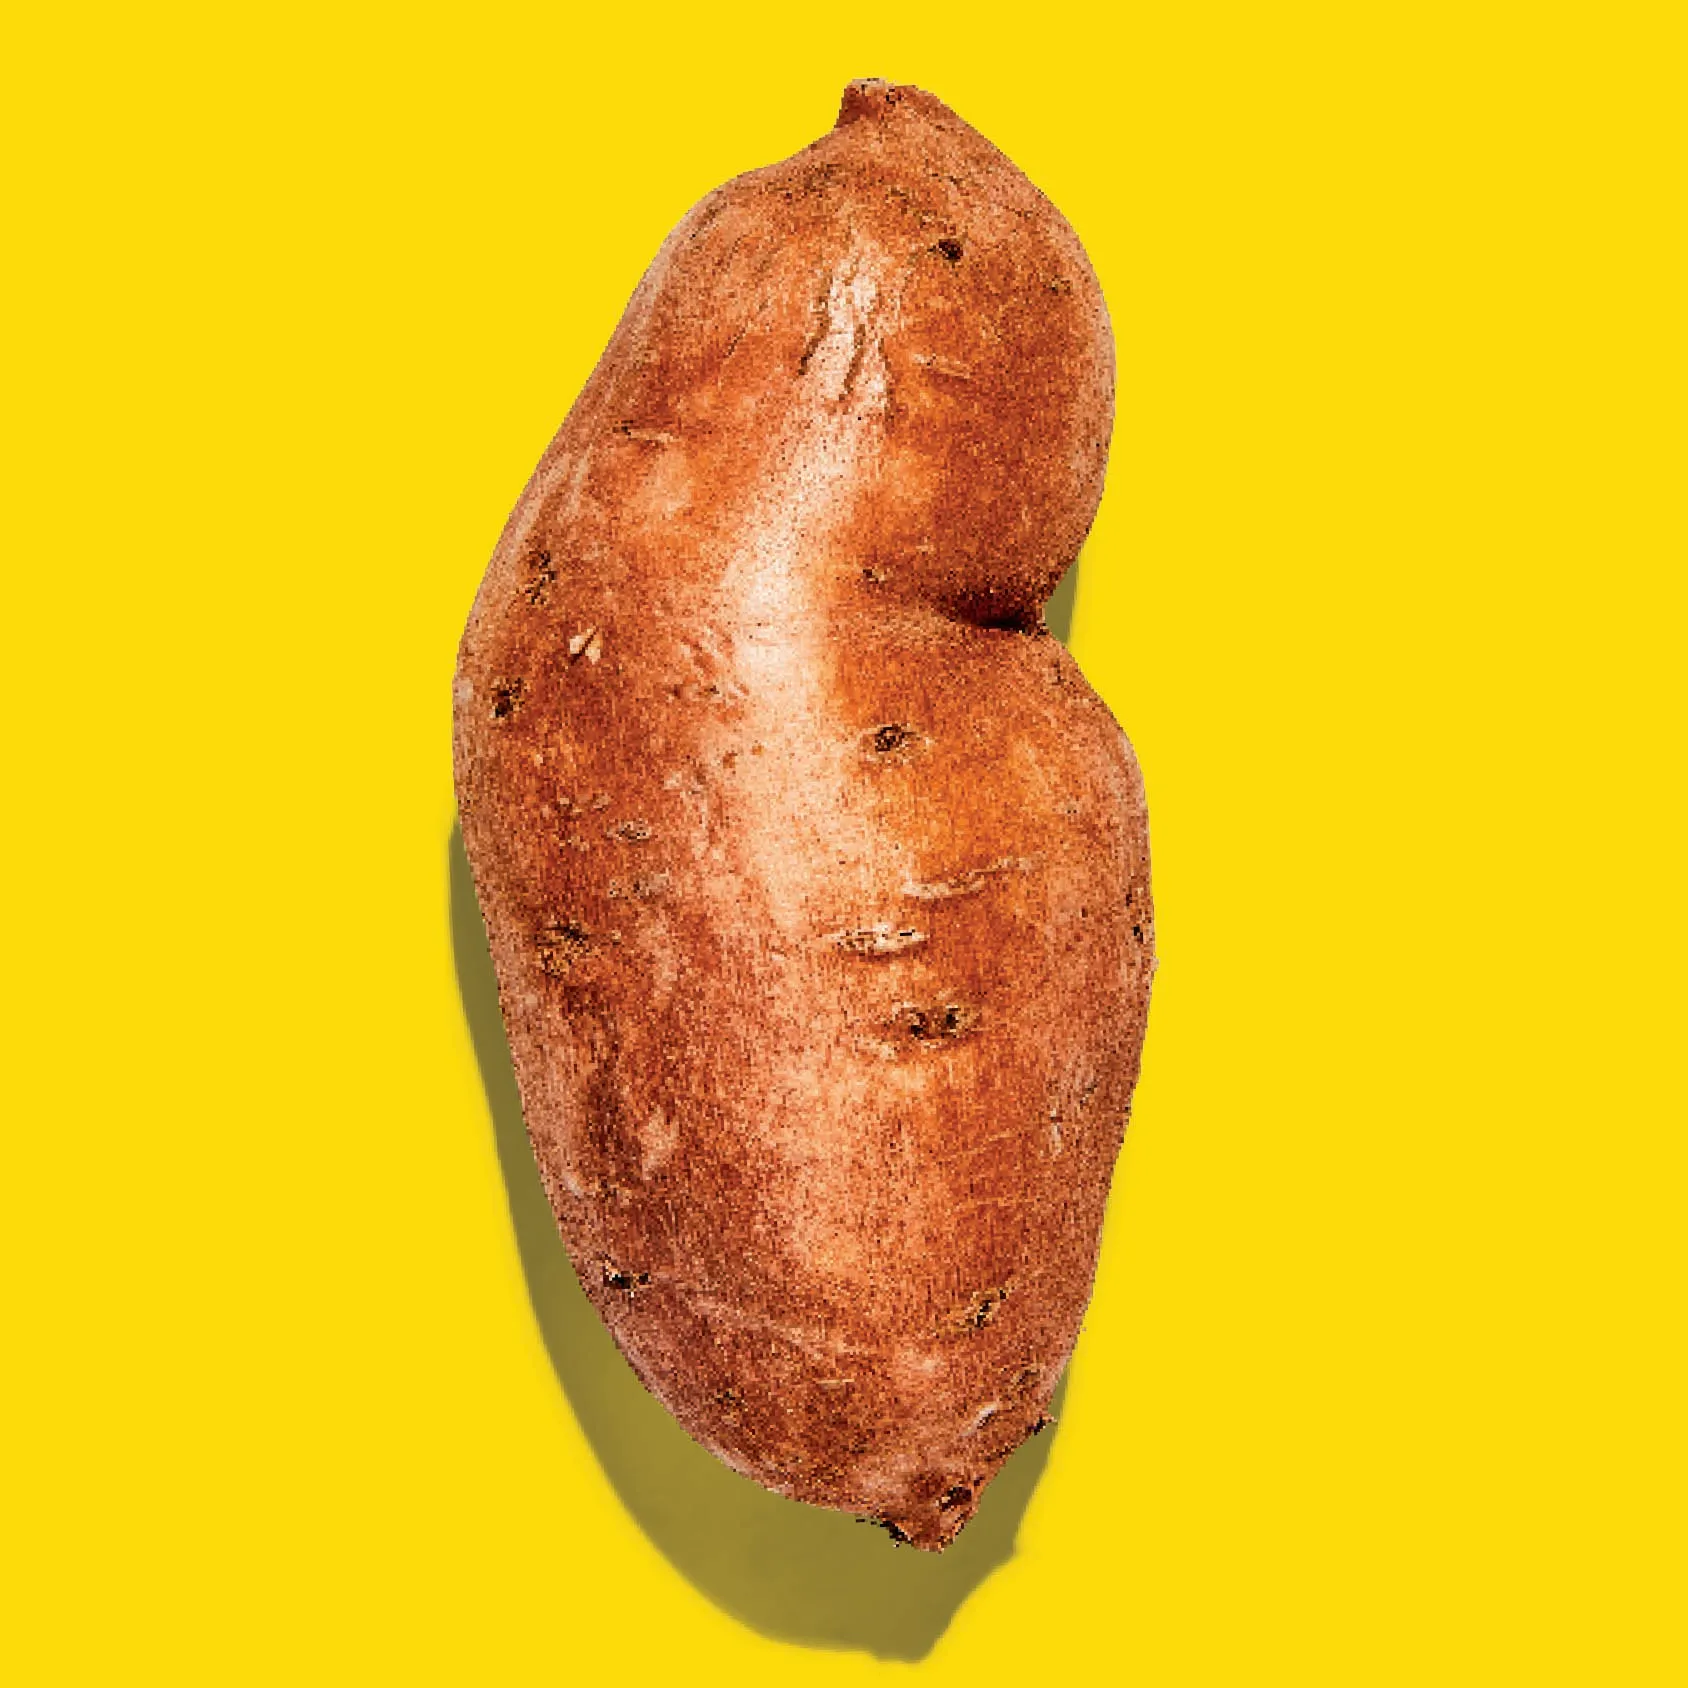potato: (458, 32, 1278, 1561)
